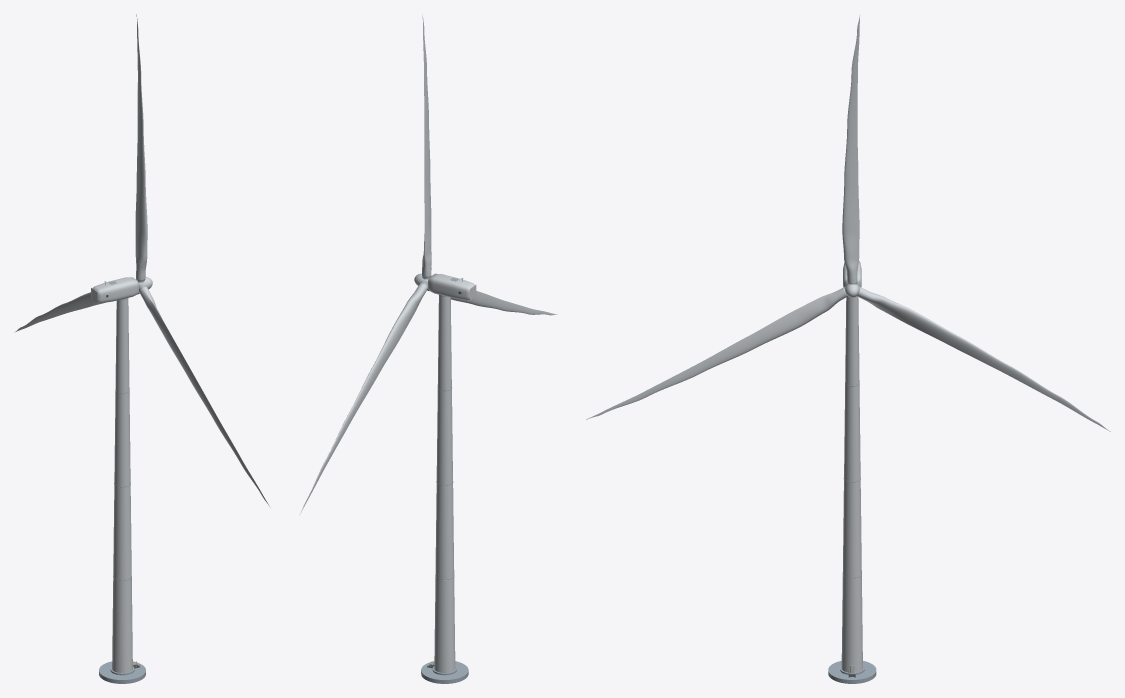
3 views of the same model, side by side, from view 1: azimuth 30°, elevation 25°; view 2: azimuth 150°, elevation 25°; view 3: azimuth 270°, elevation 25° (orthographic). The views are drawn at different scales.
Visible parts, largest first — view 1: Blade_01_Airfoil, Tower_Shell_01, Tower_Shell_02, Tower_Shell_03, Blade_02_Airfoil, Tower_Shell_04, Nacelle_Cover_TurbineWhite, Blade_03_Airfoil, Foundation_Concrete; view 2: Blade_03_Airfoil, Tower_Shell_01, Tower_Shell_02, Blade_01_Airfoil, Tower_Shell_03, Tower_Shell_04, Nacelle_Cover_TurbineWhite, Blade_02_Airfoil, Foundation_Concrete; view 3: Blade_02_Airfoil, Blade_01_Airfoil, Blade_03_Airfoil, Tower_Shell_01, Tower_Shell_02, Tower_Shell_03, Tower_Shell_04.
Part boxes in pixels (x1,y1,x2,y2): Blade_01_Airfoil: (135,14,147,280); Tower_Shell_01: (112,578,132,672); Tower_Shell_02: (113,485,131,580); Tower_Shell_03: (114,391,130,486); Blade_02_Airfoil: (139,286,270,507); Tower_Shell_04: (115,299,129,392); Nacelle_Cover_TurbineWhite: (91,277,139,303); Blade_03_Airfoil: (14,292,104,332); Foundation_Concrete: (99,661,145,683); Blade_03_Airfoil: (300,283,427,513); Tower_Shell_01: (434,577,455,672); Tower_Shell_02: (435,483,454,579); Blade_01_Airfoil: (422,14,431,277); Tower_Shell_03: (436,389,452,484); Tower_Shell_04: (437,295,451,390); Nacelle_Cover_TurbineWhite: (428,273,476,300); Blade_02_Airfoil: (450,291,557,315); Foundation_Concrete: (421,661,468,683); Blade_02_Airfoil: (586,287,847,419); Blade_01_Airfoil: (842,14,860,284); Blade_03_Airfoil: (857,287,1110,431); Tower_Shell_01: (841,575,862,672); Tower_Shell_02: (842,480,861,577); Tower_Shell_03: (844,384,860,481); Tower_Shell_04: (845,296,859,385).
Bounding box in the file's own units: 20.42 × 221 × 157.
